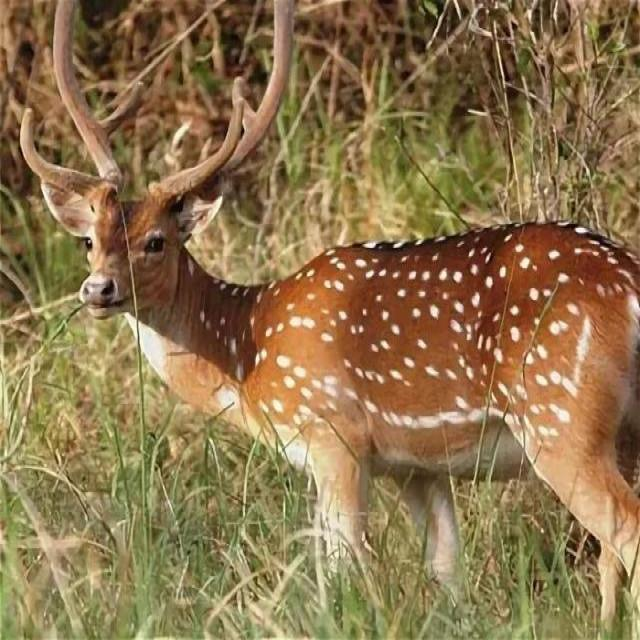deer: (0, 108, 640, 619)
